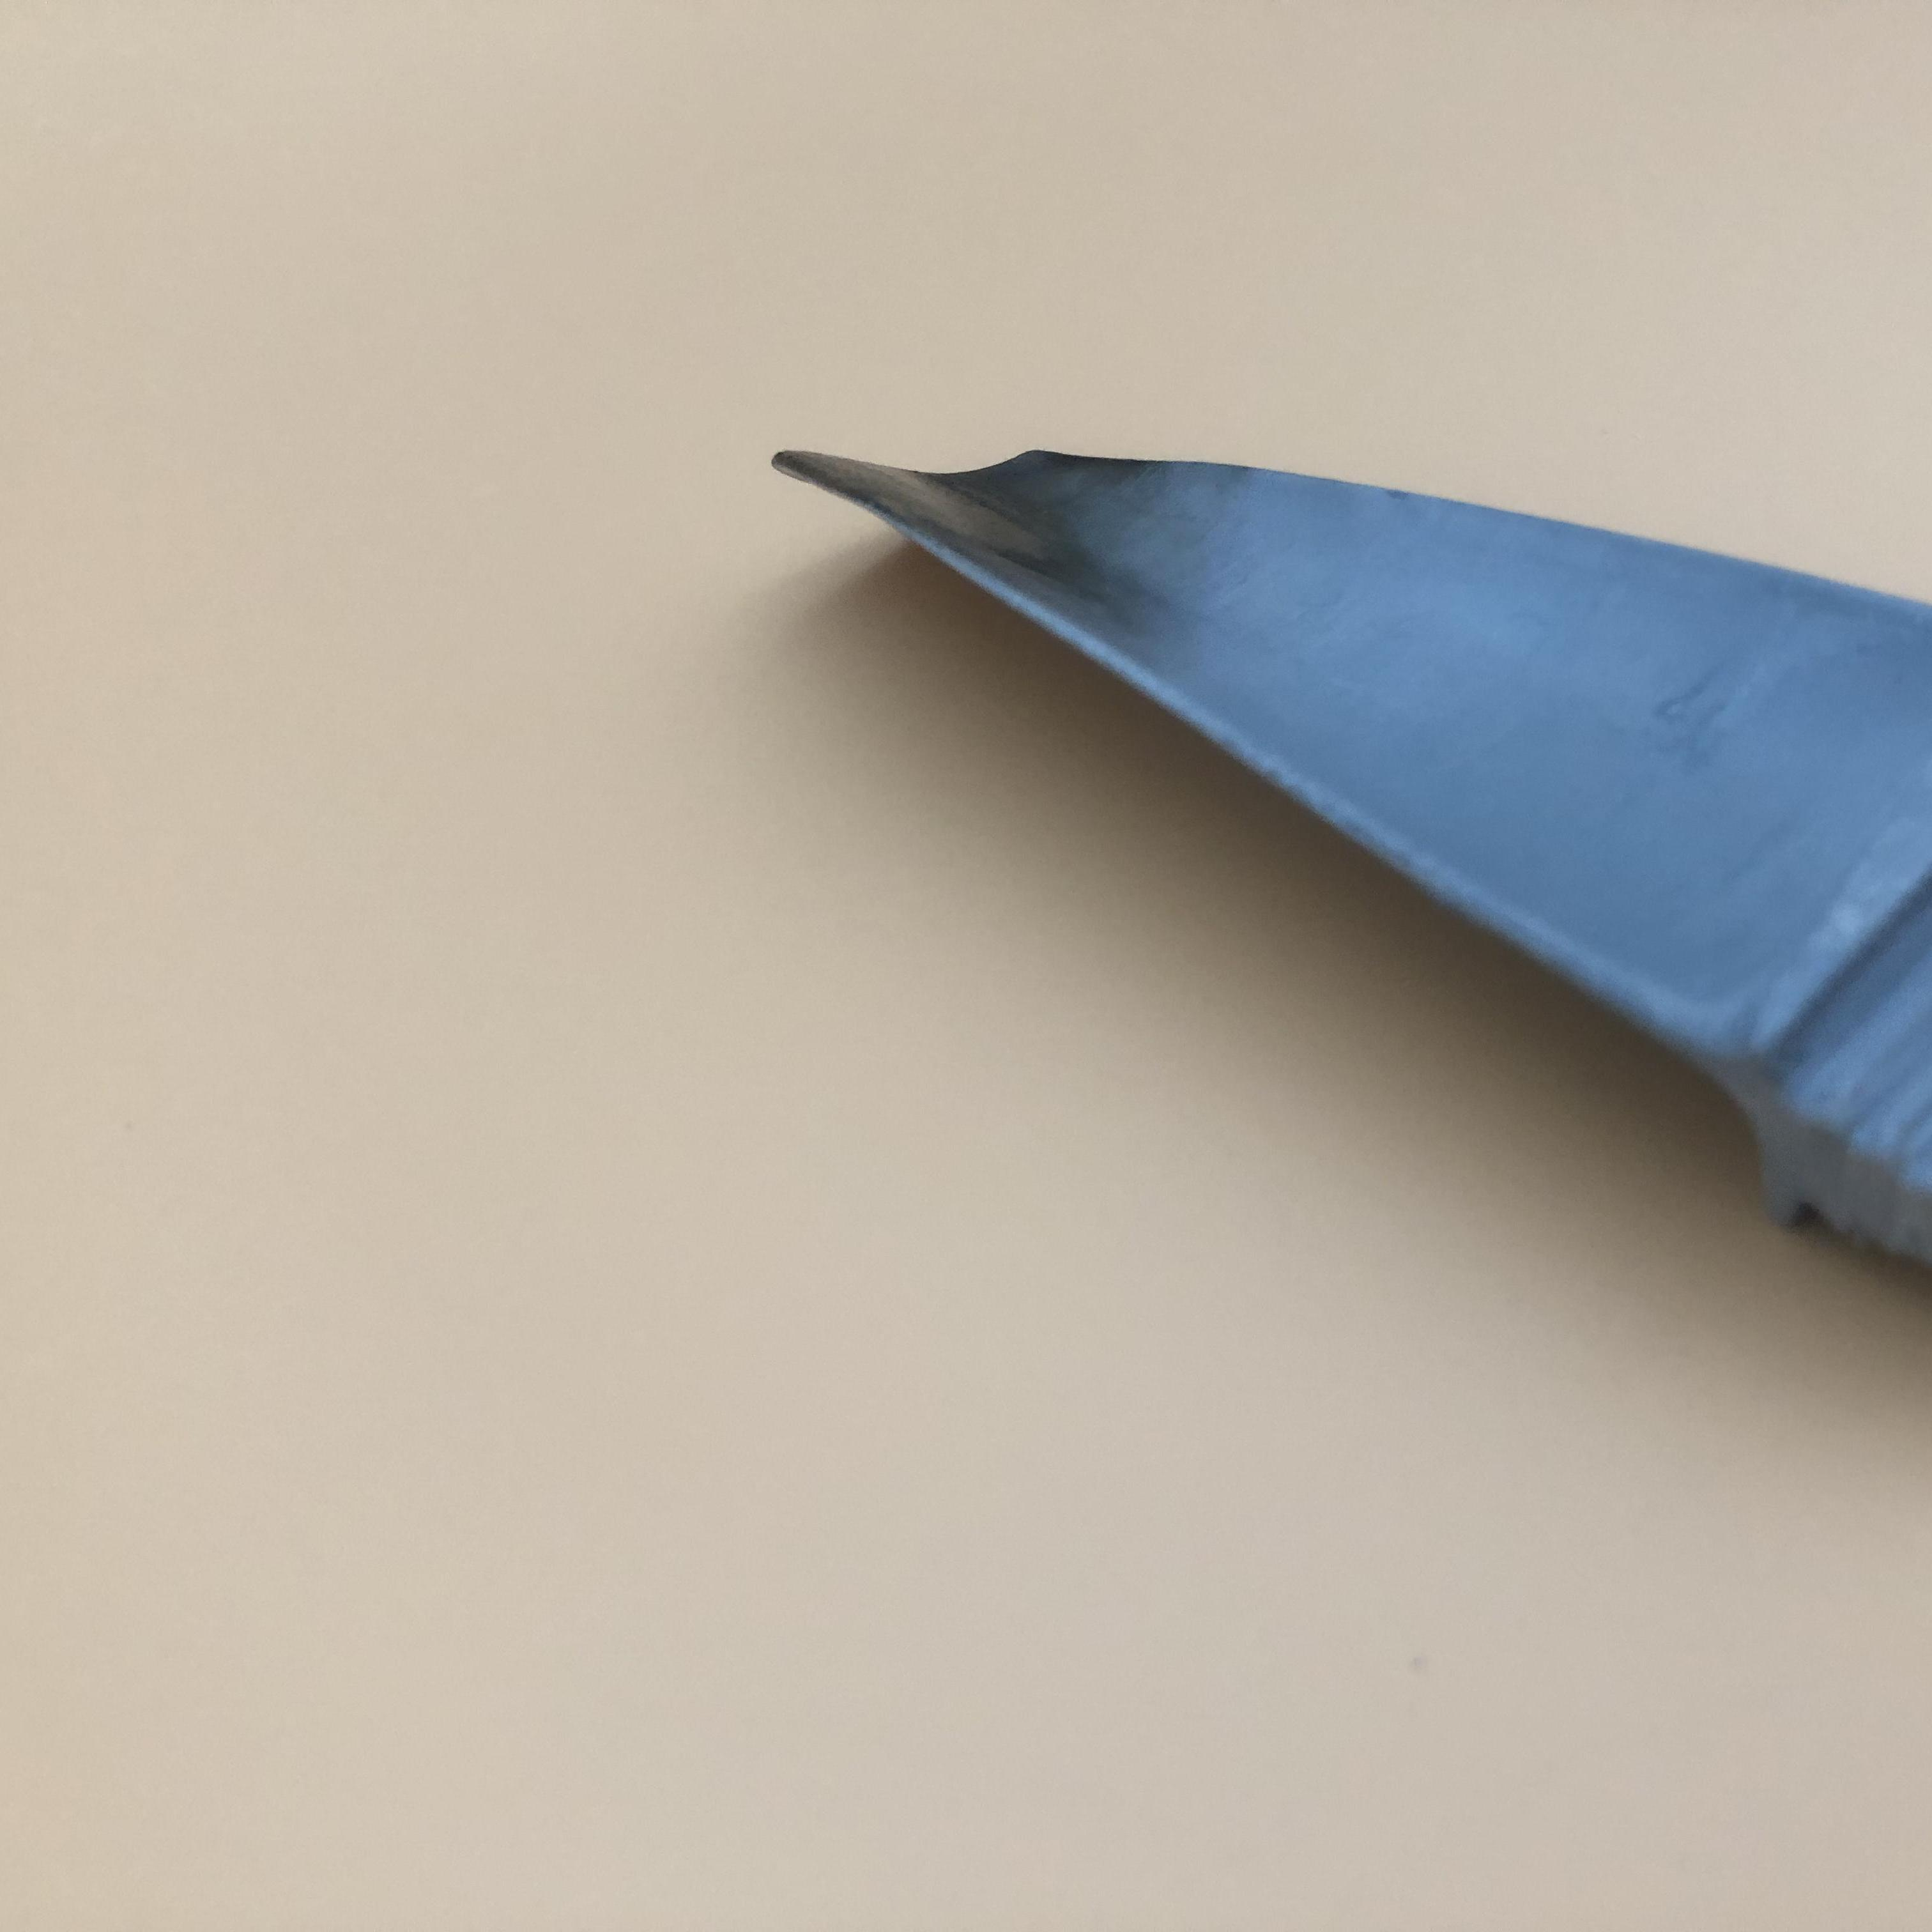ablation: (793, 449, 1184, 614)
